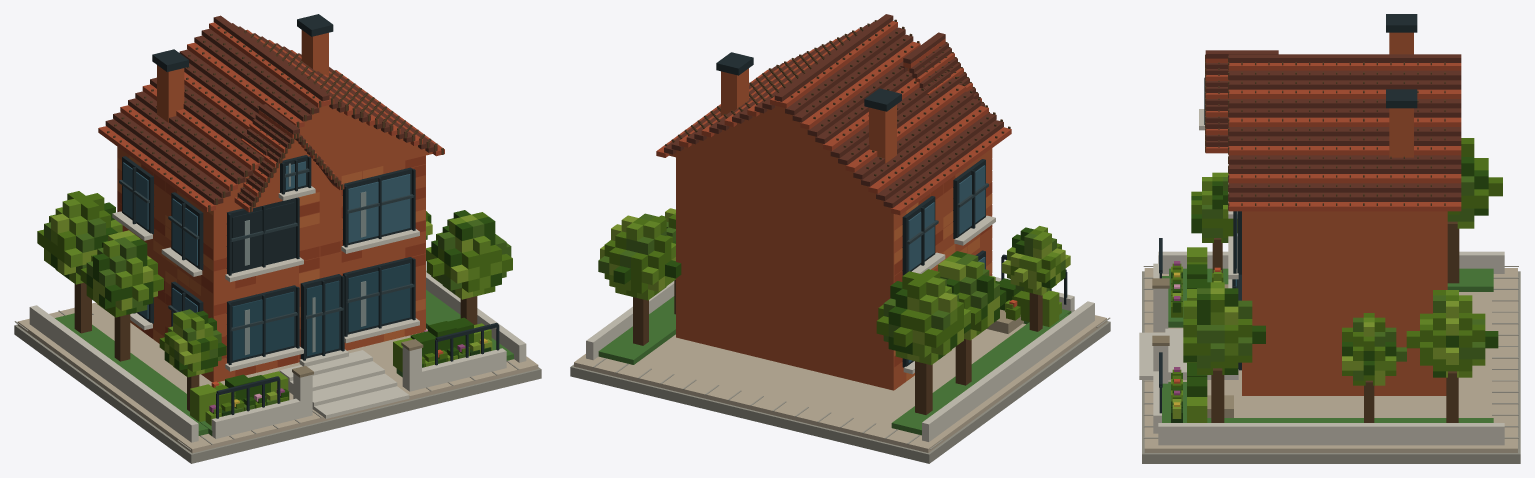
The model's file is SM_Mapa_016.fbx.
3 renders of one model, left to right at view 1: azimuth 30°, elevation 25°; view 2: azimuth 150°, elevation 25°; view 3: azimuth 270°, elevation 25°, orthographic. The views are drawn at different scales.
Visible parts, largest first — view 1: SM_Mapa_016; view 2: SM_Mapa_016; view 3: SM_Mapa_016.
Boxes of the visible parts, x1,y1,x2,y2 form: SM_Mapa_016: [14, 14, 541, 463]; SM_Mapa_016: [570, 14, 1110, 463]; SM_Mapa_016: [1139, 14, 1520, 463].
Bounding box in the file's own units: 8 × 7 × 6.41.
